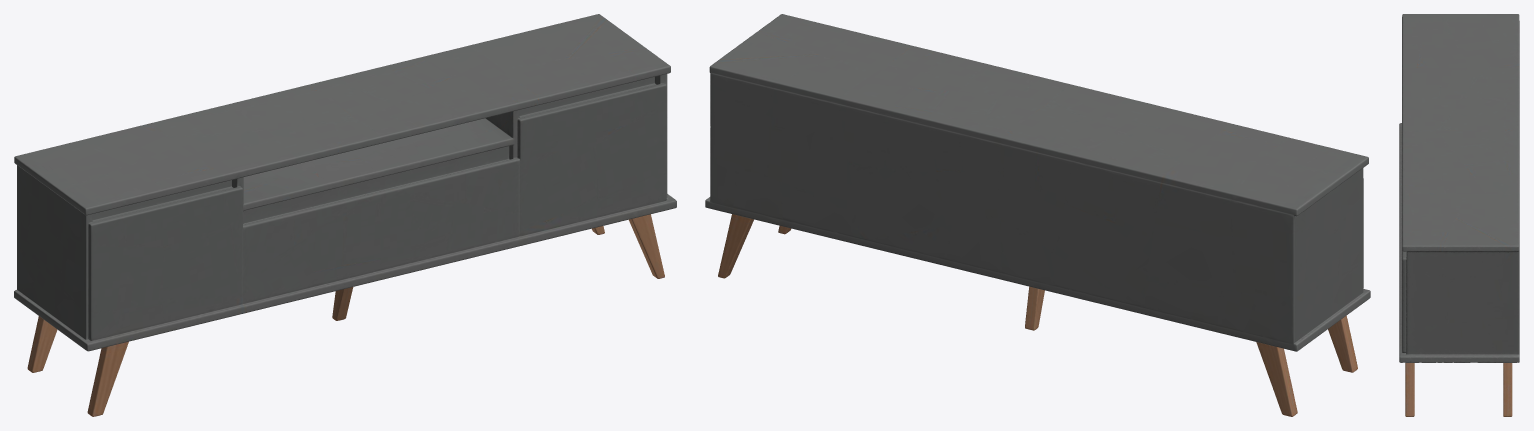
Rendered from rack_tv.glb.
3 renders of one model, left to right at view 1: azimuth 30°, elevation 25°; view 2: azimuth 150°, elevation 25°; view 3: azimuth 270°, elevation 25°, orthographic. The views are drawn at different scales.
Bounding box in the file's own units: 1.9 × 0.6549 × 0.4133.
Materials: 1 (1 with a texture image).
